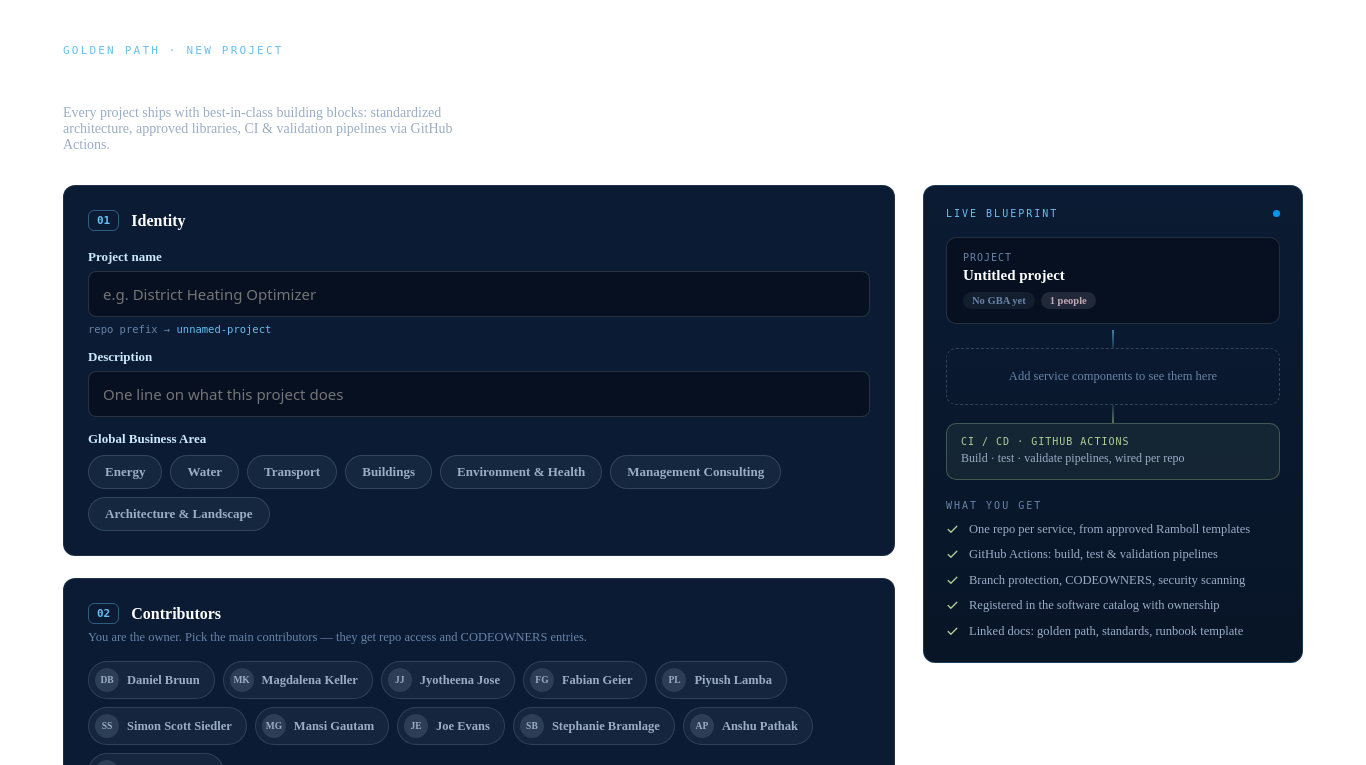
Scenario: WizardScreen › shows the slug hint fallback and updates it as the name is typed
Expected: the text "unnamed-project" is shown, [176,323,271,335]
Type "Grid Twin 2.0" into the field with placeholder "e.g. District Heating Optimizer".
click(479, 294); type("Grid Twin 2.0")  # box [88,271,870,317]
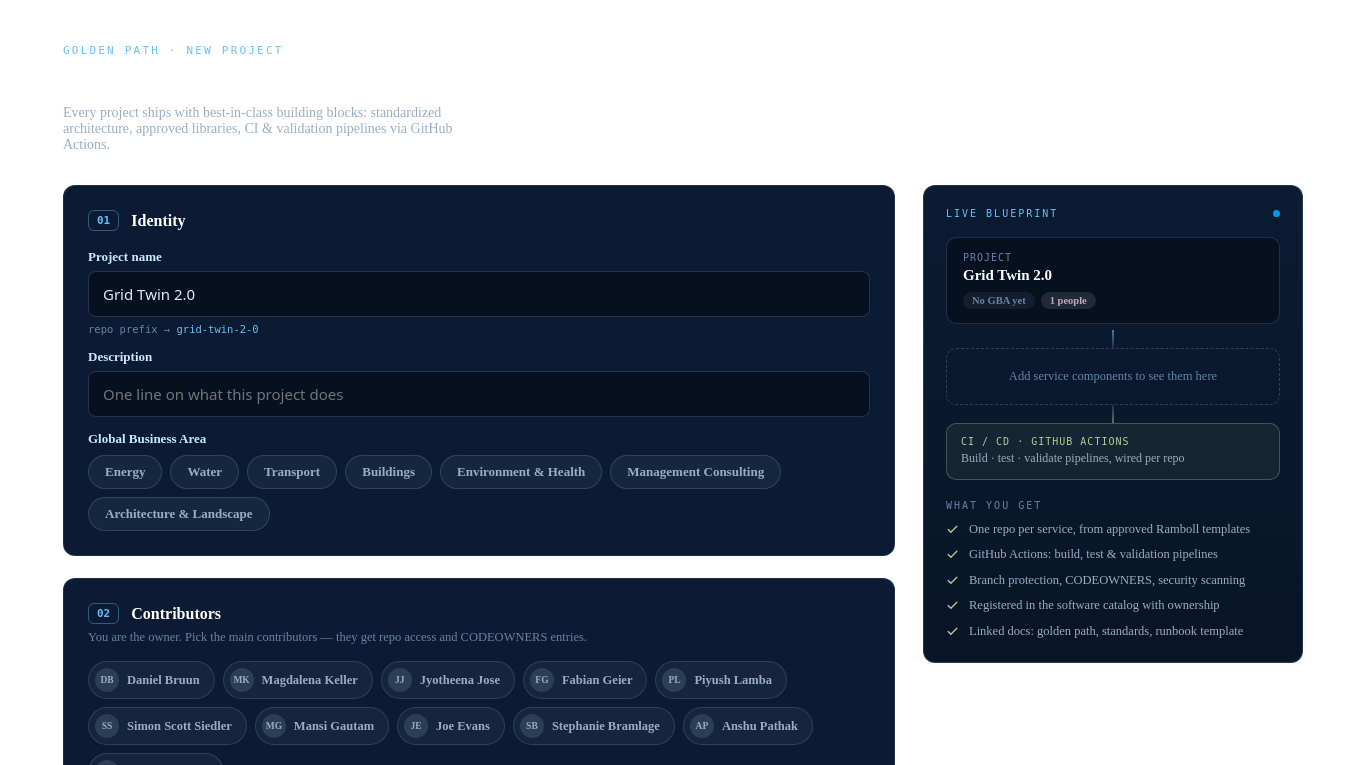
Expected: the text "grid-twin-2-0" is shown, [176,323,259,335]
